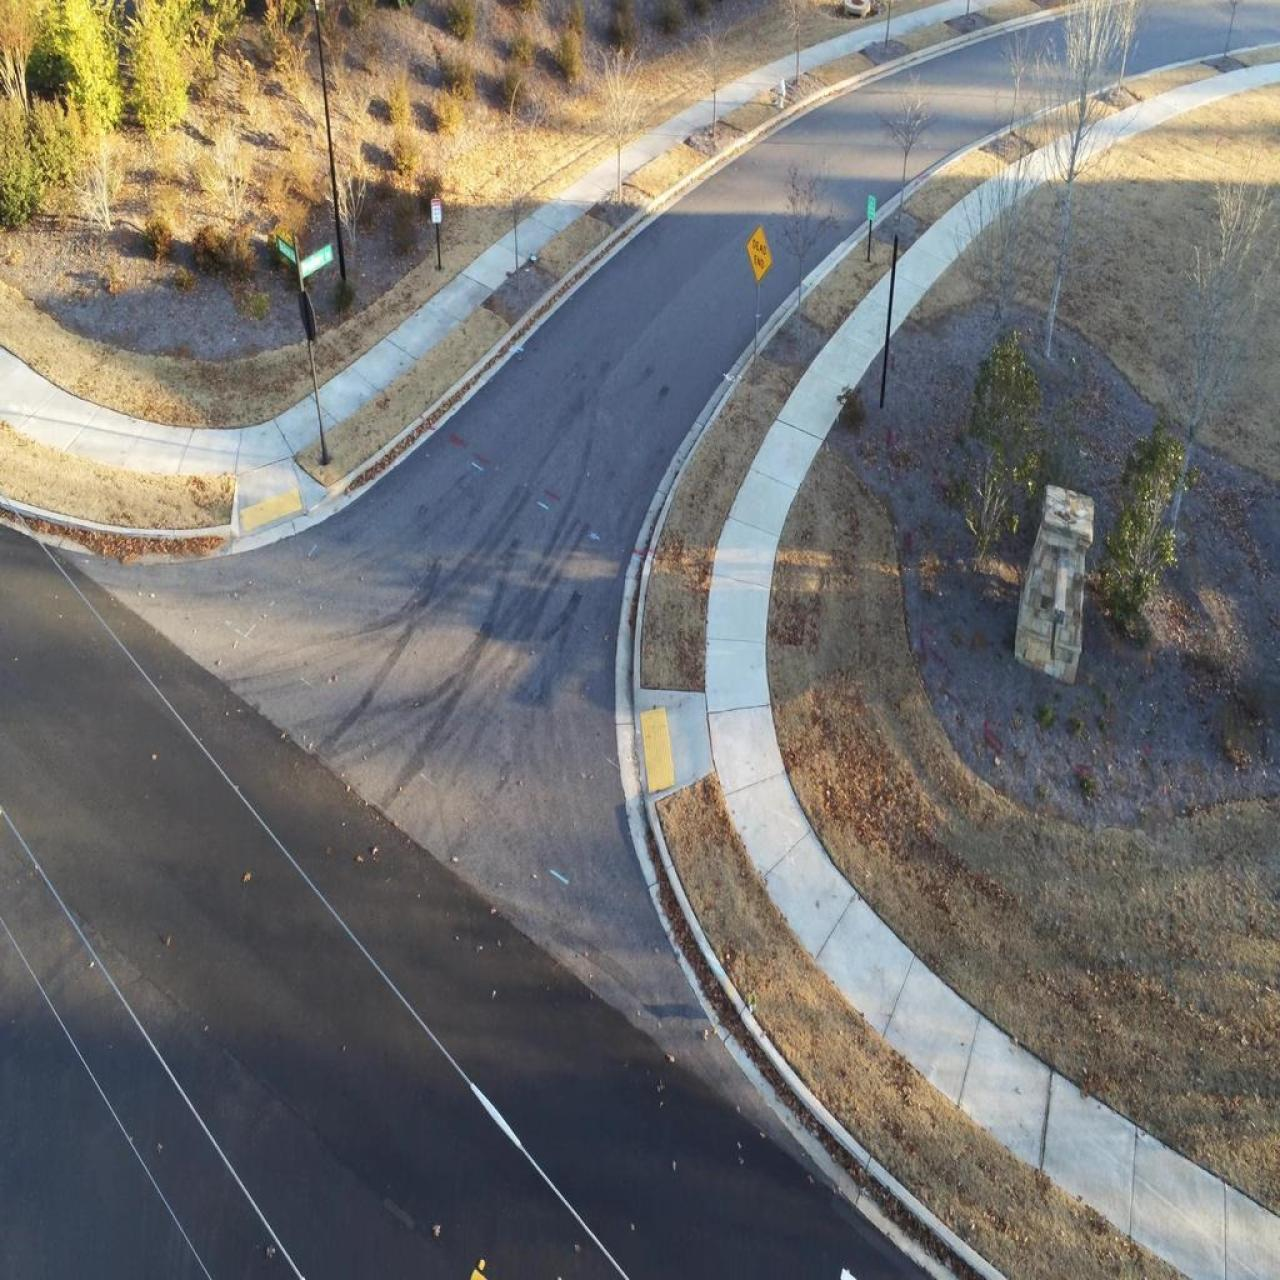cable: (0, 490, 629, 1279), (0, 805, 305, 1279), (4, 919, 212, 1279)
